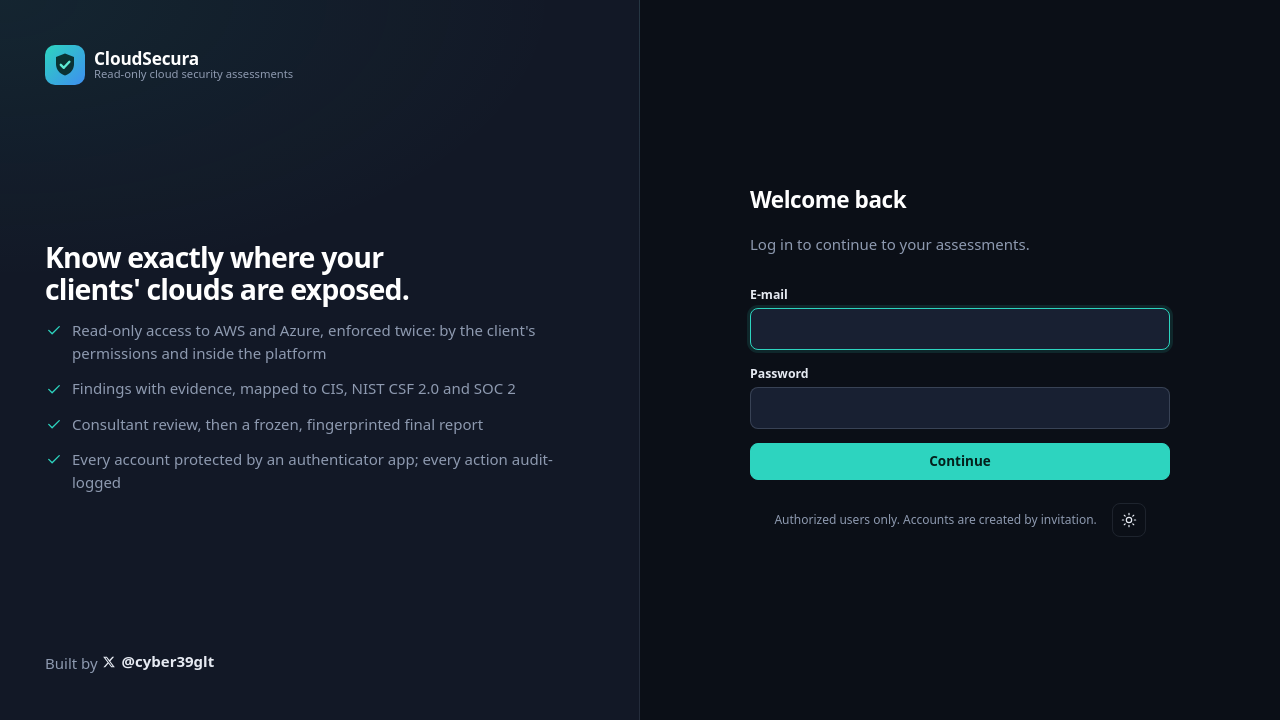
it: login › shows the server's generic error for a wrong password
Type "me@example.com" into the field labelled "E-mail" at (960, 329), box [750, 308, 1170, 350]
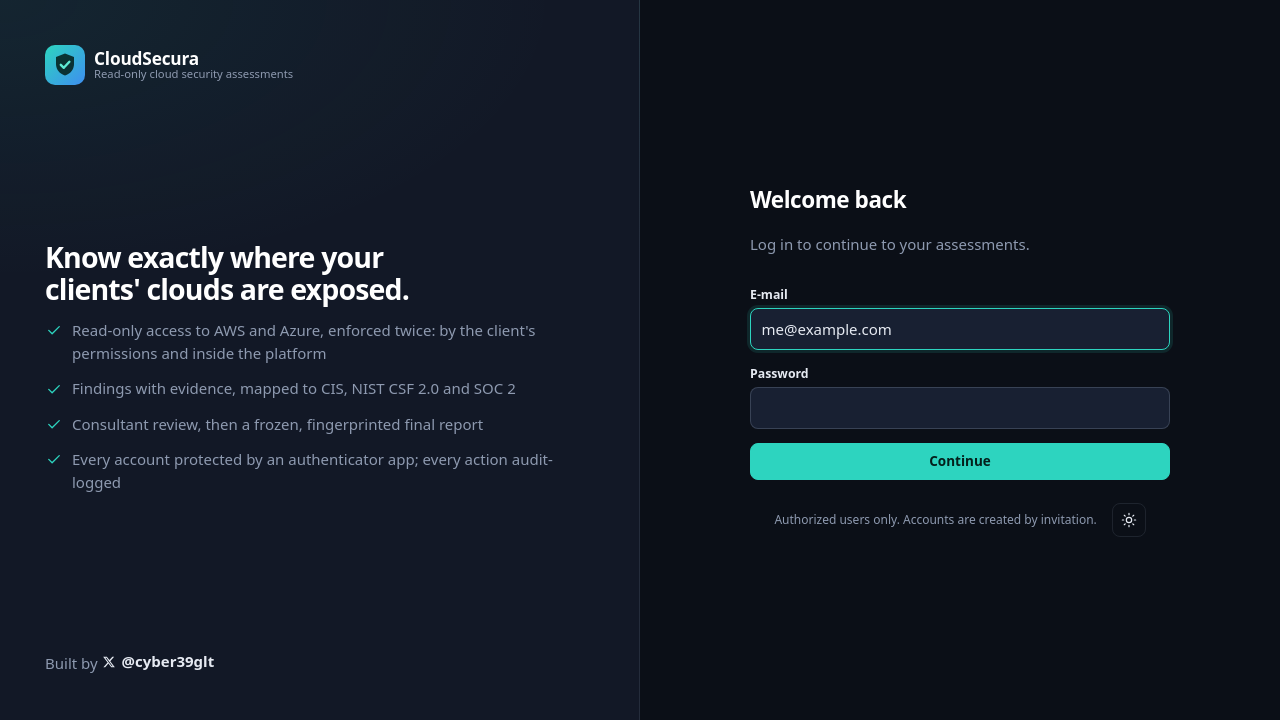
Type "wrong" into the password field labelled "Password" at (960, 408), box [750, 387, 1170, 429]
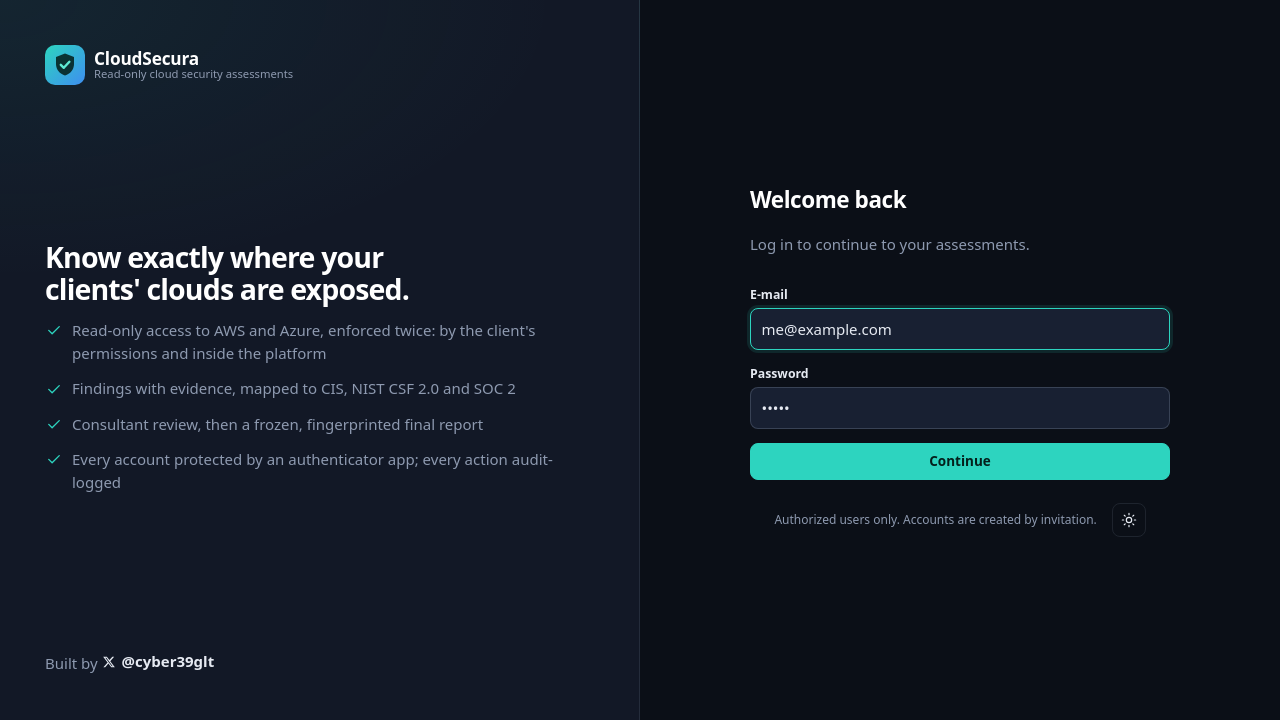
Click the button "Continue" at (960, 461), box [750, 442, 1170, 480]
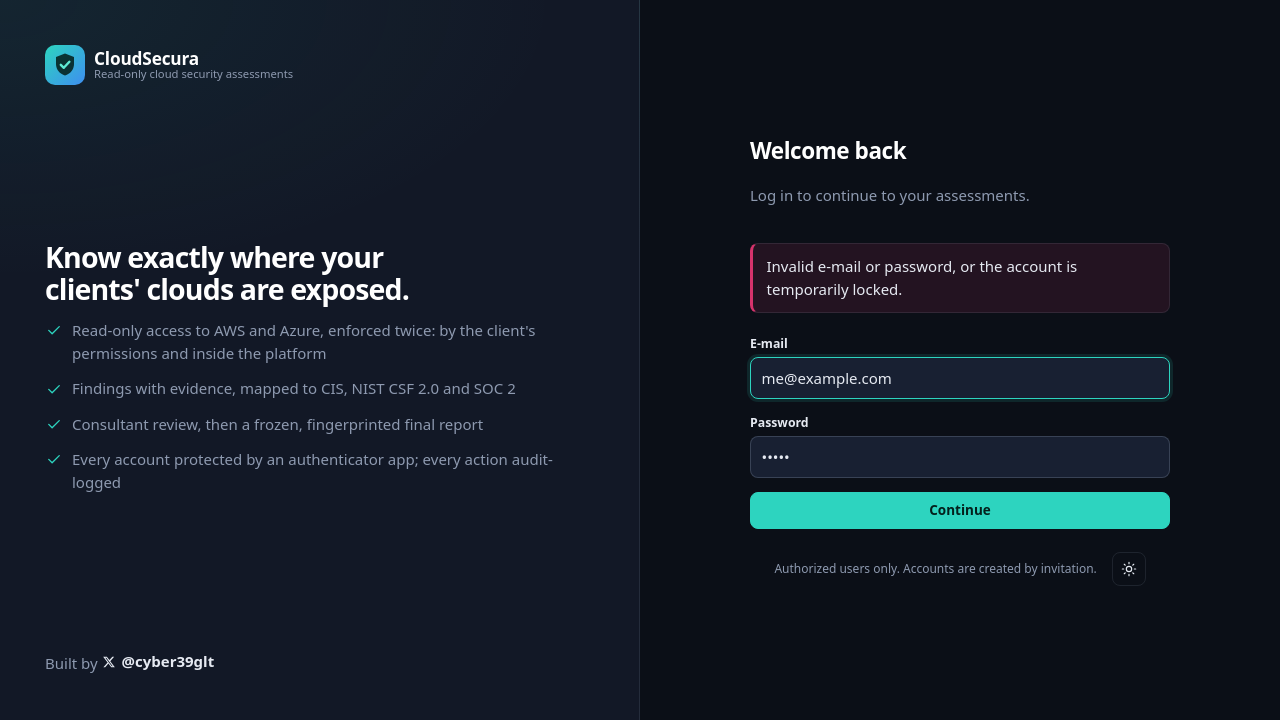
expect the message reads "Invalid e-mail or password, or the account is temporarily locked.": met, box [766, 256, 1077, 299]
